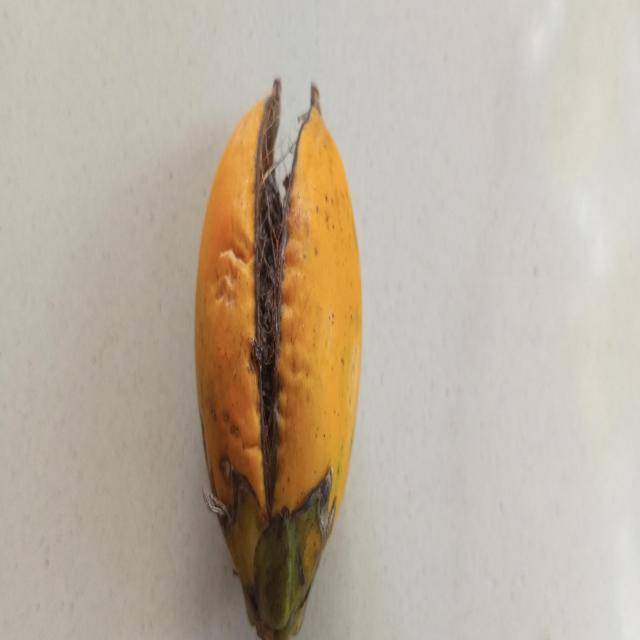damaged: (194, 80, 364, 640)
